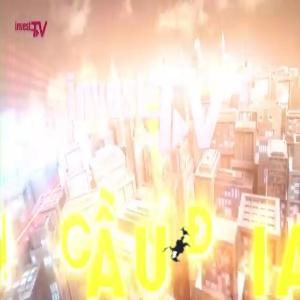drone: (150, 217, 206, 273)
